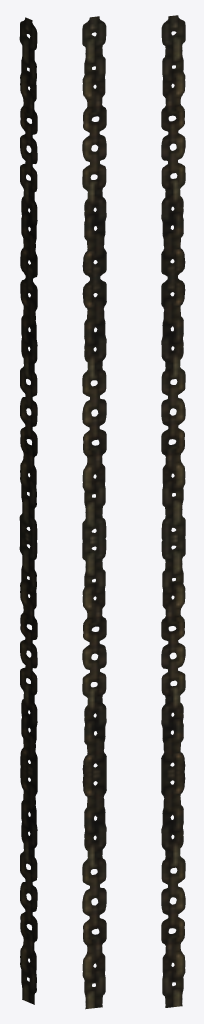
File: mlzd_tiel_03.FBX
3 views of the same model, side by side, from view 1: azimuth 90°, elevation 25°; view 2: azimuth 150°, elevation 25°; view 3: azimuth 330°, elevation 25° (orthographic).
Parts seen in each view (by area): view 1: mlzd_tiel_03; view 2: mlzd_tiel_03; view 3: mlzd_tiel_03.
Part boxes in pixels (<box>): mlzd_tiel_03: <box>19,17,37,1004</box>; mlzd_tiel_03: <box>82,16,106,1009</box>; mlzd_tiel_03: <box>161,15,185,1007</box>.
Size of the model in its own units: 107 by 3882 by 107.
